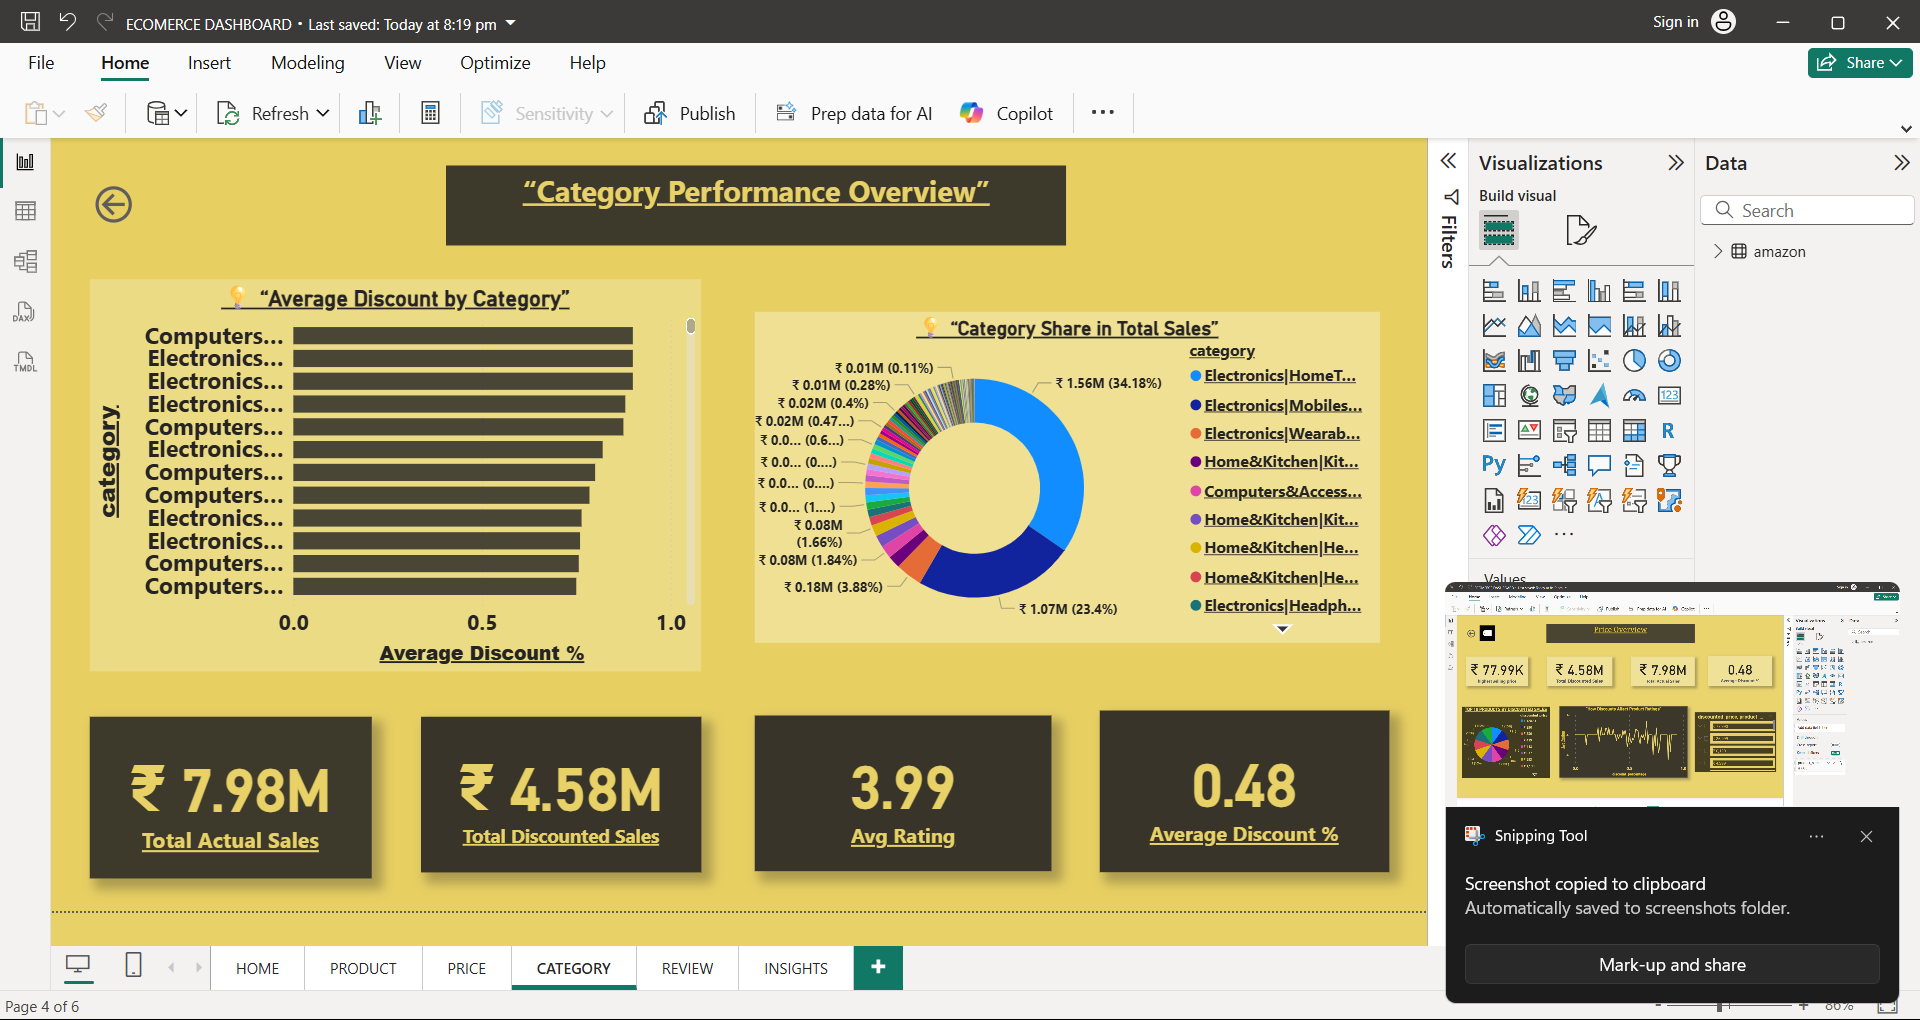

The dashboard page shown, as its layout file describes it:
{"tool":"powerbi","page":{"name":"CATEGORY","canvas":[1280,720],"ordinal":3},"visuals":[{"type":"textbox","box":[368,25.8,577.1,74.5],"z":0},{"type":"barChart","title":"💡 “Average Discount by Category”","fields":{"Category":["amazon.category"],"Y":["amazon.Average Discount %"]},"box":[35.8,131.7,568.5,365.2],"z":1000},{"type":"donutChart","title":"💡 “Category Share in Total Sales”","fields":{"Category":["amazon.category"],"Y":["Sum(amazon.discounted_price)"]},"box":[654.4,161.8,581.4,307.9],"z":2000},{"type":"card","fields":{"Values":["amazon.Total Actual Sales"]},"box":[35.8,538.4,262.1,150.4],"z":3000},{"type":"card","fields":{"Values":["amazon.Total Discounted Sales"]},"box":[343.7,538.4,260.6,144.6],"z":4000},{"type":"card","fields":{"Values":["amazon.Avg Rating"]},"box":[654.4,537,276.4,144.6],"z":5000},{"type":"card","fields":{"Values":["amazon.Average Discount %"]},"box":[975.2,532.7,269.2,150.4],"z":6000},{"type":"actionButton","box":[36.6,39.8,90.6,44.5],"z":7000}]}

Visuals, with their boxes on the page's 1280x720 design canvas (x1, y1, x2, y2). These are canvas units, not pixel positions in the 1920x1020 screenshot, which may show the page scaled, cropped or inside an application window:
textbox: box=[368, 26, 945, 100]
"💡 “Average Discount by Category”" barChart: box=[36, 132, 604, 497]
"💡 “Category Share in Total Sales”" donutChart: box=[654, 162, 1236, 470]
card - amazon.Total Actual Sales: box=[36, 538, 298, 689]
card - amazon.Total Discounted Sales: box=[344, 538, 604, 683]
card - amazon.Avg Rating: box=[654, 537, 931, 682]
card - amazon.Average Discount %: box=[975, 533, 1244, 683]
actionButton: box=[37, 40, 127, 84]
